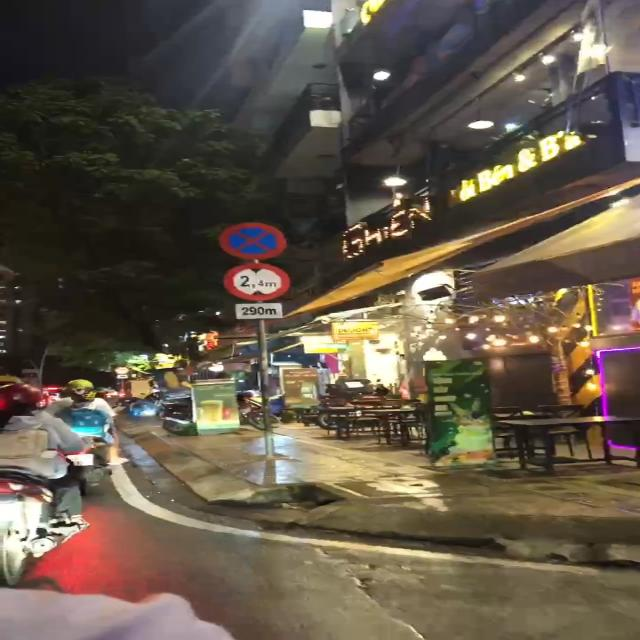Bien bao cam dung xe va do xe: (214, 218, 288, 260)
Bien bao han che chieu cao: (216, 260, 297, 300)
